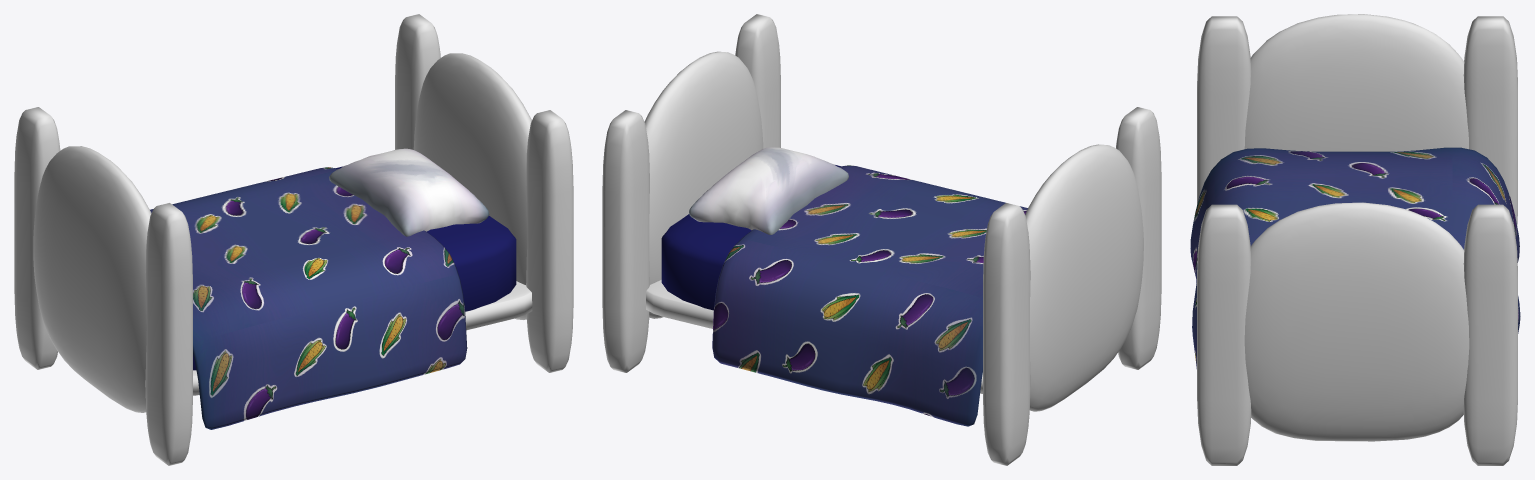
File: Camita.fbx
3 views of the same model, side by side, from view 1: azimuth 30°, elevation 25°; view 2: azimuth 150°, elevation 25°; view 3: azimuth 270°, elevation 25° (orthographic).
Parts seen in each view (by area): view 1: Sabanas, Cube.005, Cube, Cube.004, Cube.001, Almohadaee, Cube.003, Cube.006, Cube.002, Base_Colchon; view 2: Sabanas, Cube.005, Cube, Cube.003, Cube.002, Almohadaee, Cube.004, Cube.006, Cube.001, Base_Colchon; view 3: Cube, Cube.005, Sabanas, Cube.002, Cube.001, Cube.003, Cube.004.
Part boxes in pixels (box(x1,y1,x2,y2)): Sabanas: box(150, 167, 467, 429); Cube.005: box(33, 146, 151, 412); Cube: box(413, 53, 531, 319); Cube.004: box(145, 203, 192, 465); Cube.001: box(526, 110, 573, 372); Almohadaee: box(329, 148, 489, 236); Cube.003: box(14, 107, 60, 369); Cube.006: box(193, 166, 516, 370); Cube.002: box(395, 14, 440, 149); Base_Colchon: box(193, 281, 532, 395); Sabanas: box(712, 165, 1027, 426); Cube.005: box(1025, 144, 1143, 411); Cube: box(644, 51, 763, 318); Cube.003: box(983, 203, 1030, 465); Cube.002: box(602, 110, 649, 372); Almohadaee: box(689, 147, 848, 234); Cube.004: box(1116, 107, 1161, 369); Cube.006: box(661, 165, 840, 310); Cube.001: box(735, 14, 780, 148); Base_Colchon: box(646, 280, 982, 393); Cube: box(1244, 202, 1469, 441); Cube.005: box(1244, 14, 1468, 151); Sabanas: box(1190, 147, 1520, 368); Cube.002: box(1463, 204, 1517, 465); Cube.001: box(1197, 204, 1251, 465); Cube.003: box(1463, 16, 1517, 225); Cube.004: box(1197, 16, 1251, 204).
Bounding box in the file's own units: 577 × 334 × 386.
Materials: 6 (2 with a texture image).
